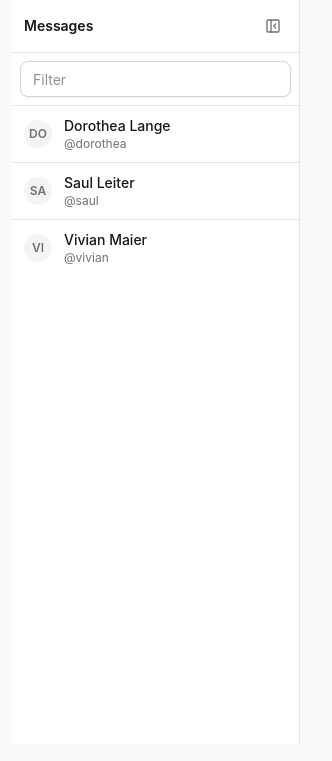
Test: the filter box narrows the visible rows
Expected: the text "Vivian Maier" is shown, [64,230,147,250]
Type "lang" into the search field labelled "Filter" at (156, 79), box [20,61,291,97]
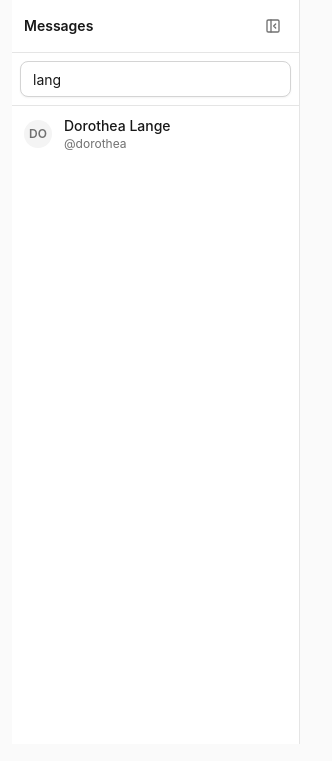
Expected: the text "Dorothea Lange" is shown, [64,116,171,136]
Expected: the button "Vivian Maier" is gone
Expected: the button "Saul Leiter" is gone
